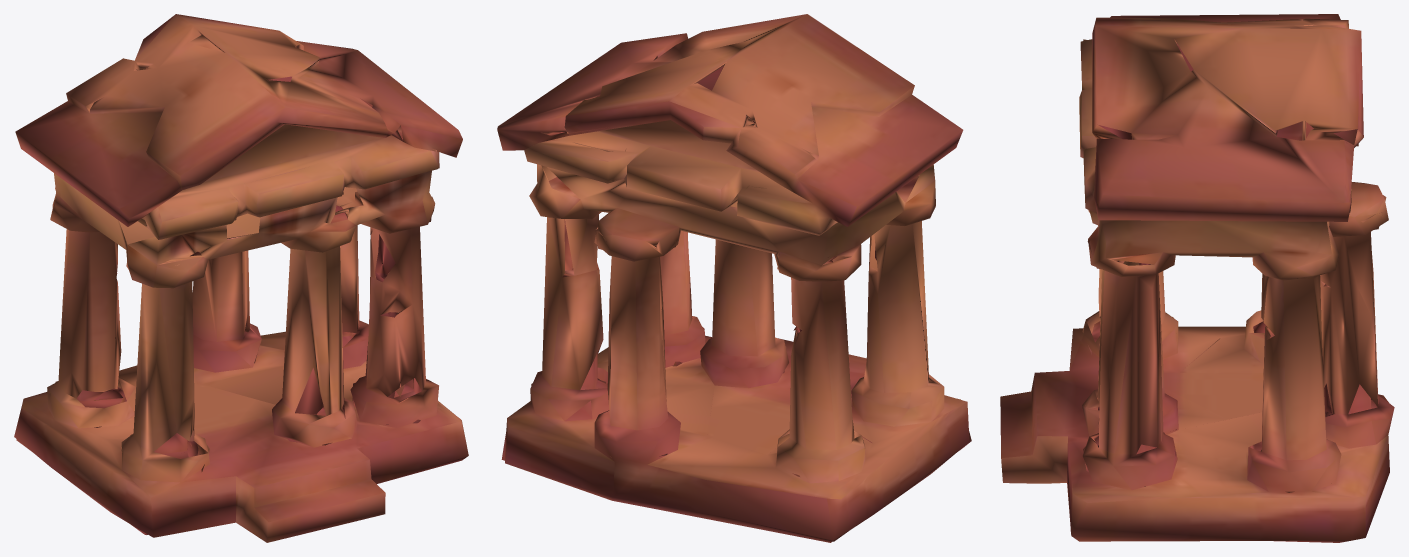
Rendered from lg-ruined-temple-front.glb.
3 renders of one model, left to right at view 1: azimuth 30°, elevation 25°; view 2: azimuth 150°, elevation 25°; view 3: azimuth 270°, elevation 25°, orthographic. The views are drawn at different scales.
Parts seen in each view (by area): view 1: geometry_0; view 2: geometry_0; view 3: geometry_0.
Boxes of the visible parts, x1,y1,x2,y2 form: geometry_0: (14, 14, 468, 542); geometry_0: (497, 14, 971, 542); geometry_0: (1000, 14, 1394, 542).
Bounding box in the file's own units: 0.9159 × 1 × 0.8274.
Materials: 1 (1 with a texture image).
